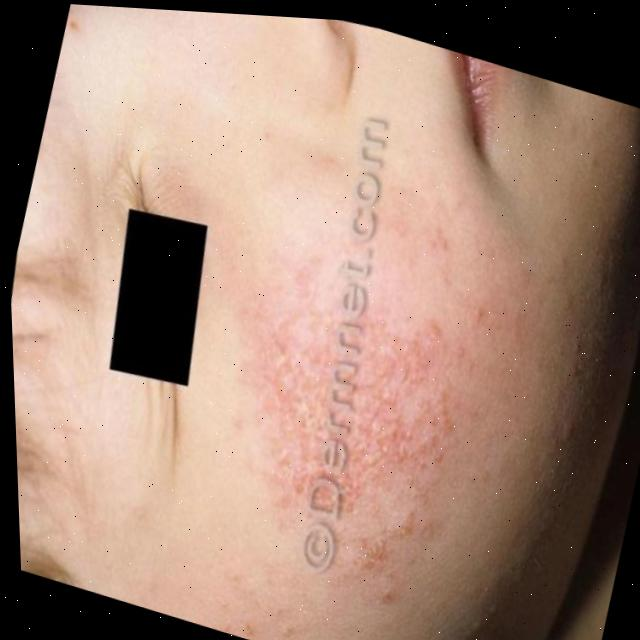Eczema: (239, 240, 506, 568)
